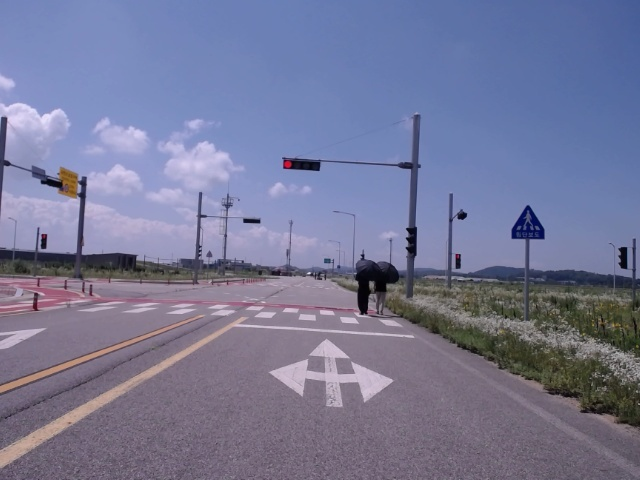red_4: (282, 160, 320, 172)
